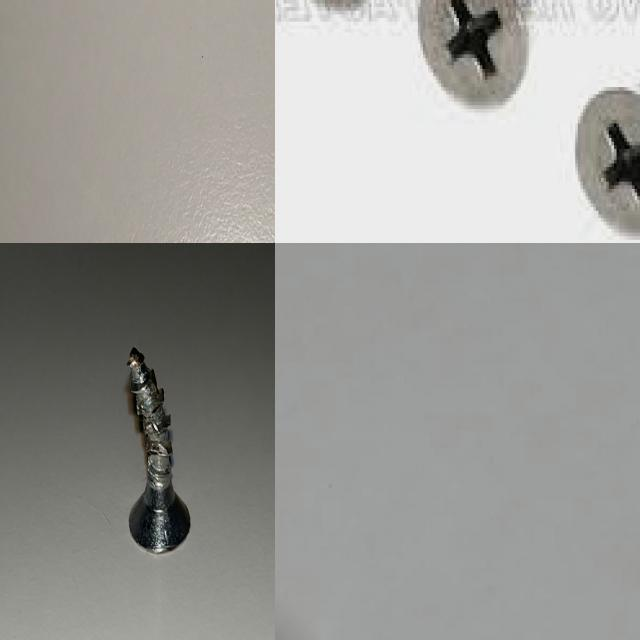Screw: (411, 0, 542, 116), (128, 346, 190, 552), (570, 69, 640, 241)
